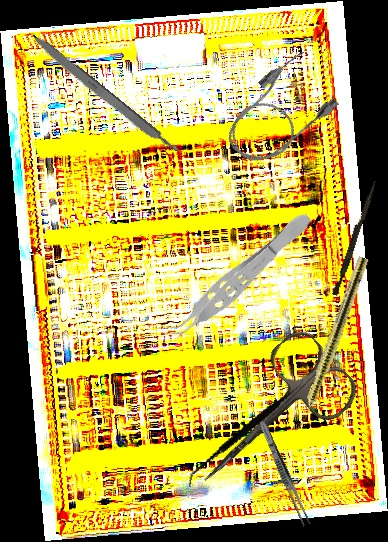Cannula: (211, 45, 346, 178)
Dressing Forceps: (256, 418, 313, 528)
Handpiece: (292, 255, 370, 435)
Iris Scissors: (171, 323, 365, 514)
Pusher: (332, 179, 377, 297)
Scalpel Handle: (27, 31, 180, 158)
Spatula Surgical: (186, 350, 308, 511)
Tissue Forceps: (156, 204, 319, 351)
